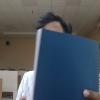notebook: (31, 27, 99, 99)
